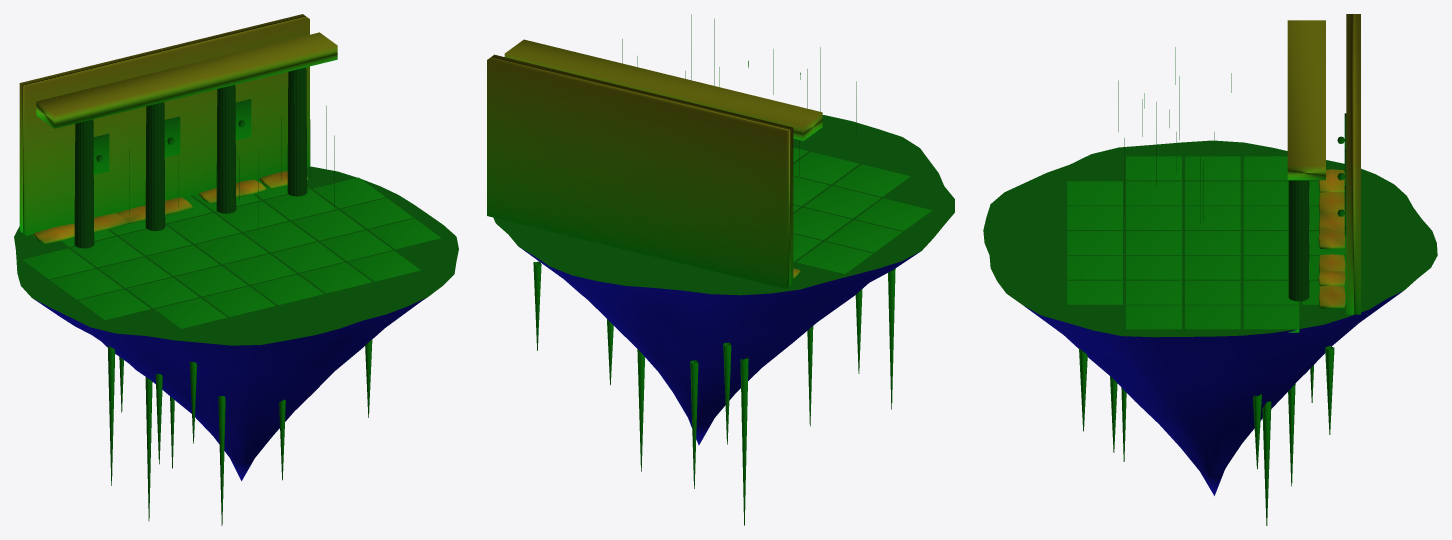
Rendered from memory_gallery.glb.
3 views of the same model, side by side, from view 1: azimuth 30°, elevation 25°; view 2: azimuth 150°, elevation 25°; view 3: azimuth 270°, elevation 25° (orthographic). The views are drawn at different scales.
Parts seen in each view (by area): view 1: memory_gallery; view 2: memory_gallery; view 3: memory_gallery.
Boxes of the visible parts, box(x1,y1,x2,y2) form: memory_gallery: box(14, 14, 458, 525); memory_gallery: box(487, 14, 954, 525); memory_gallery: box(983, 14, 1437, 525).
Size of what is drawn, in the model's own units: 11.88 by 12.61 by 11.6.
